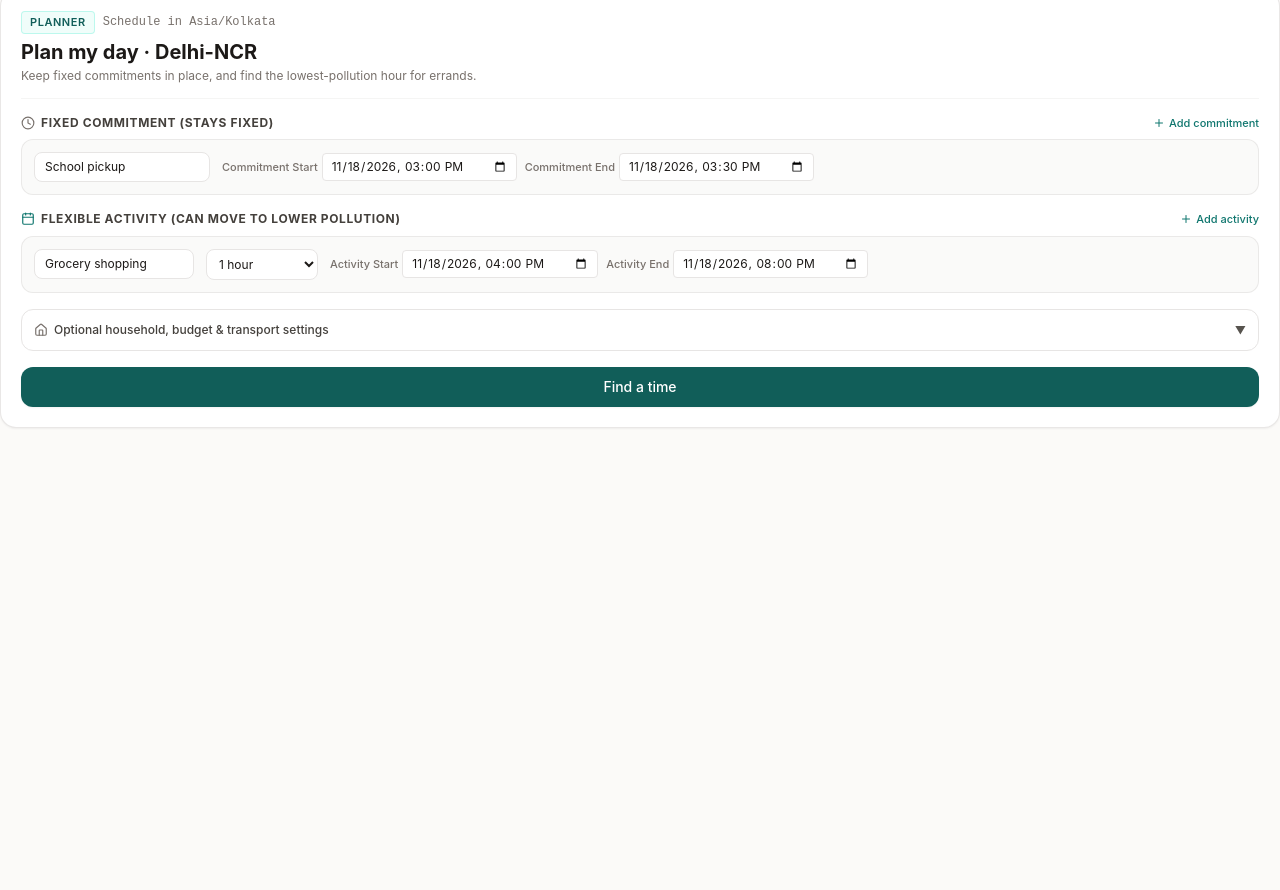
Test: submits the family's edited local schedule in Delhi-NCR
Earlier steps of the test are not shown.
Click the button "Find a time" at (640, 386), box [21,366,1259,406]
(page scrolled)
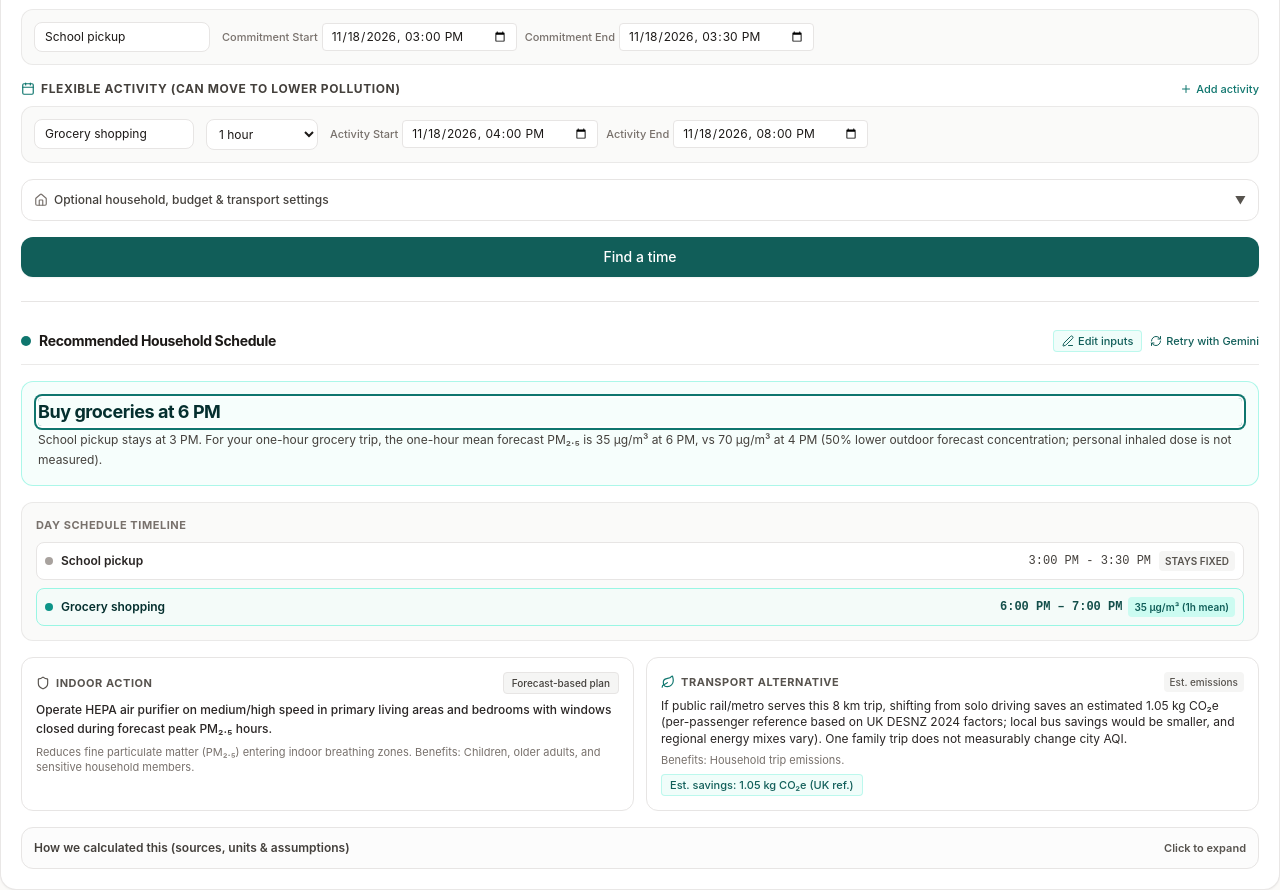
Result: the text "6:00 PM" is shown at [1000,600,1050,614]
Result: the text "3:00 PM - 3:30 PM" is shown at [1029,552,1151,568]
Result: the button "Retry with Gemini" is shown at [1150,332,1259,349]
